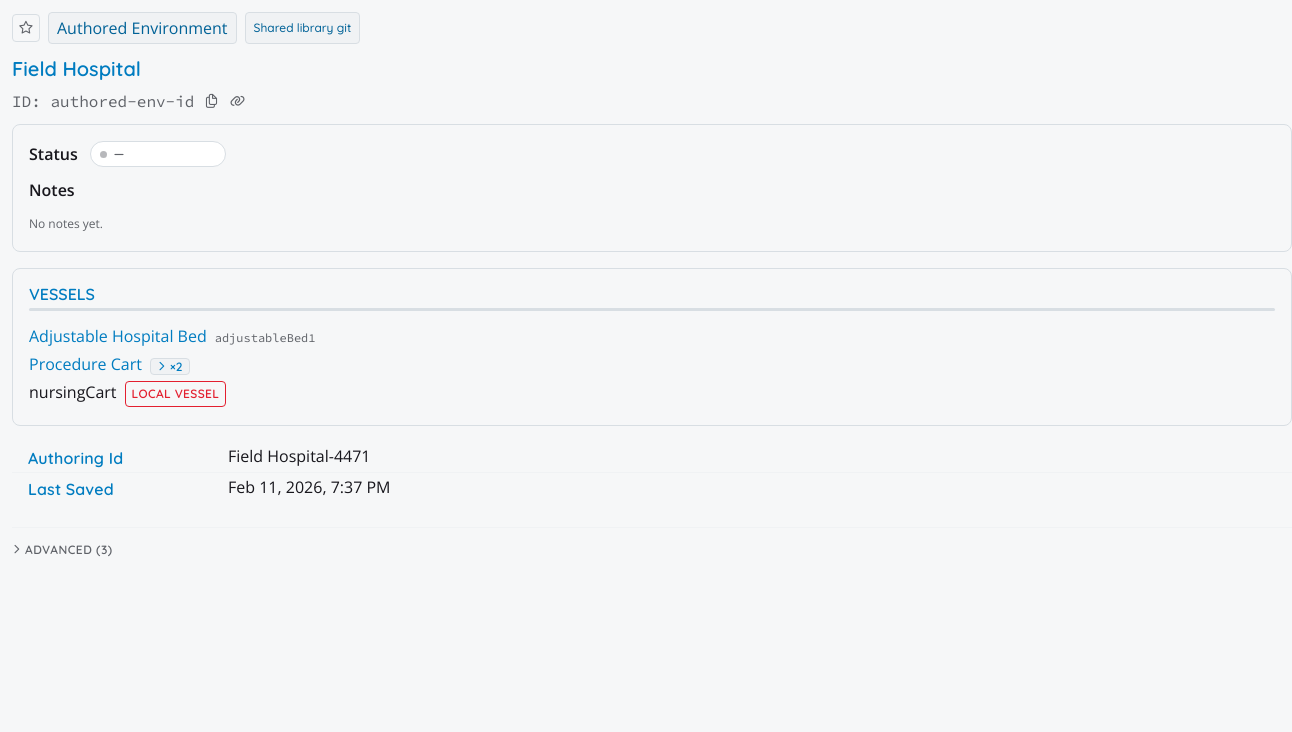
Test case: AssetDetailComponent authored environment › keeps the advanced section collapsed until clicked
Step 1. Click the button with class "advanced-toggle" → (62, 550), box [12,540,113,559]
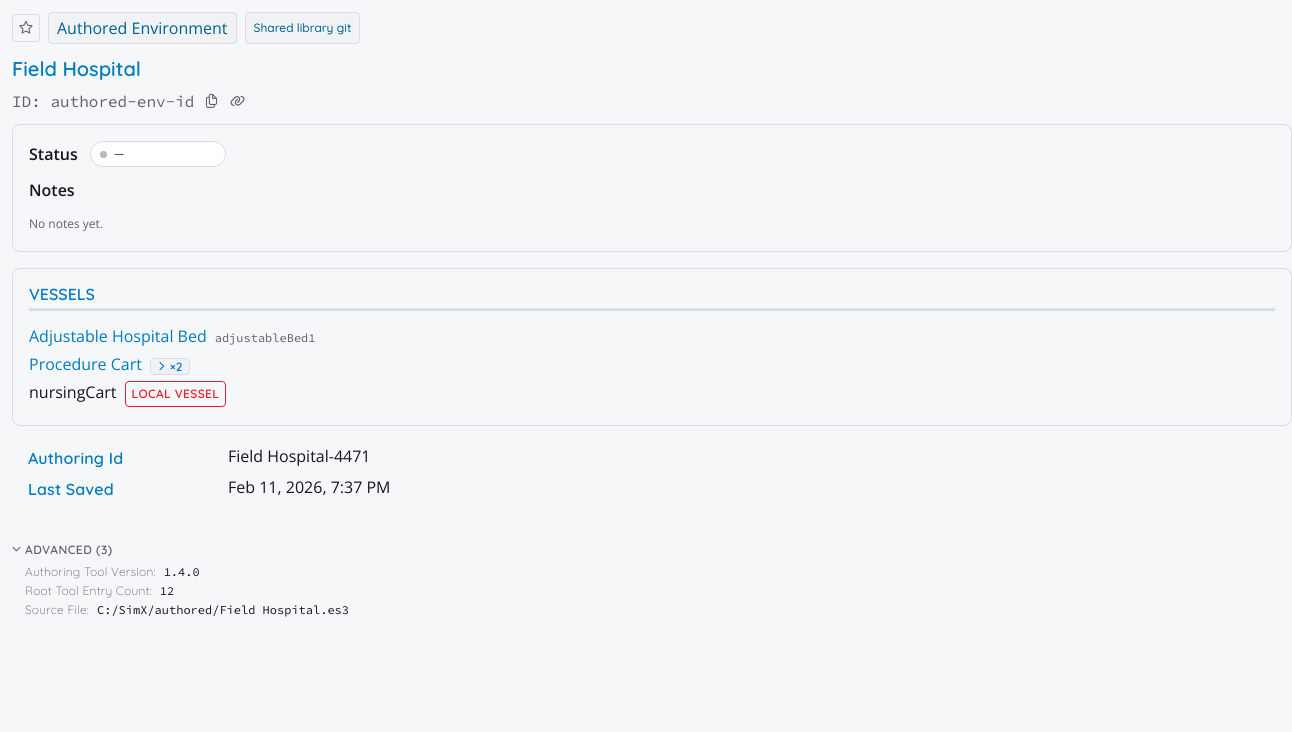
expect the number of list items with class "advanced-item" is 3: met, box [25,564,200,579]; [25,583,174,598]; [25,602,349,617]
expect the text "Root Tool Entry Count" is shown: met, box [25,583,152,600]
